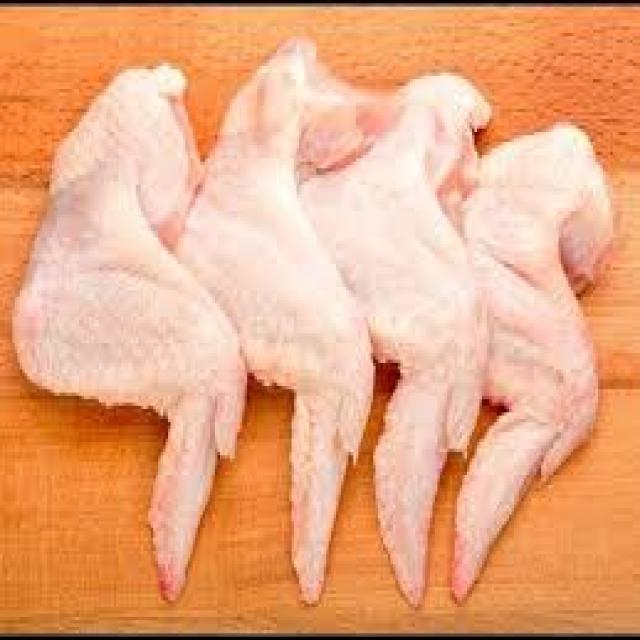wing: (16, 51, 248, 576), (199, 24, 369, 606), (434, 99, 609, 597), (322, 49, 479, 601)
